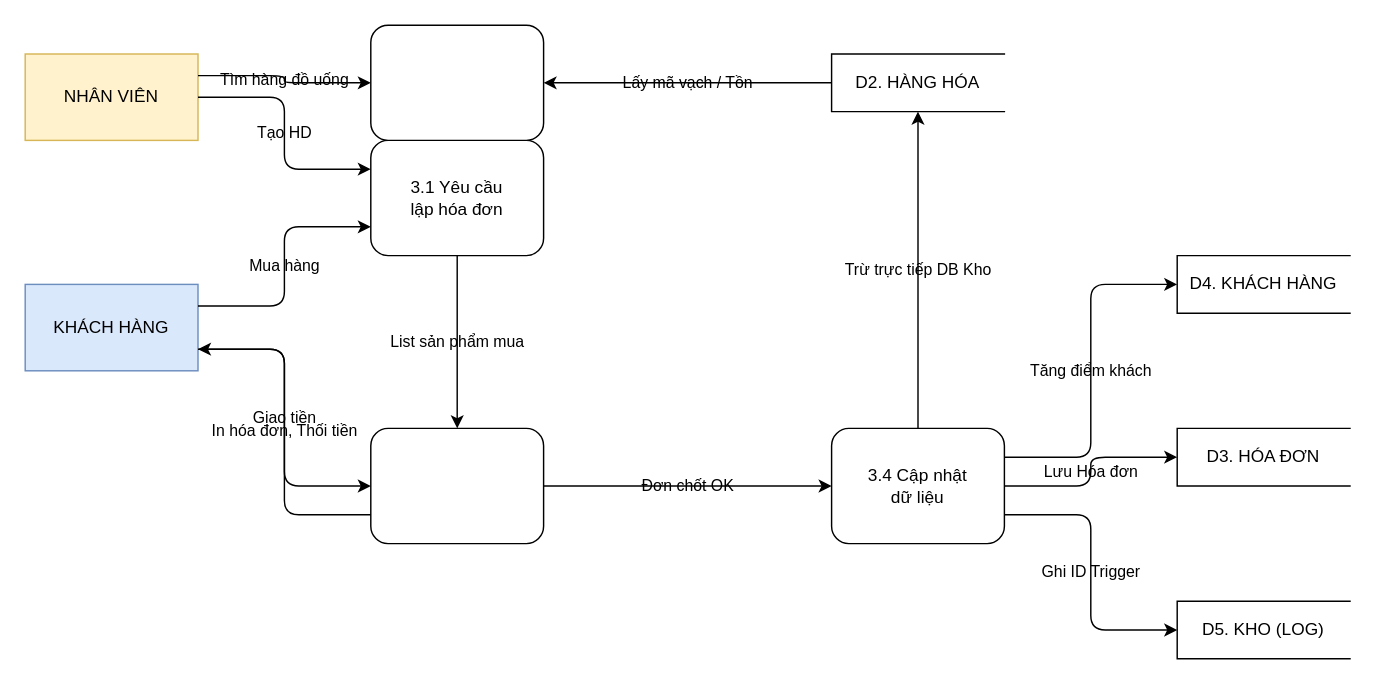
Some shapes in this 1375 by 684 pixel diagram are drawn without their labels. Here are the shapes that lost their labels. From the top down, the box of each, then its label:
(369, 24, 544, 140): 3.2 Tra cứu sản phẩm
(369, 427, 544, 544): 3.3 Xử lý thanh toán
